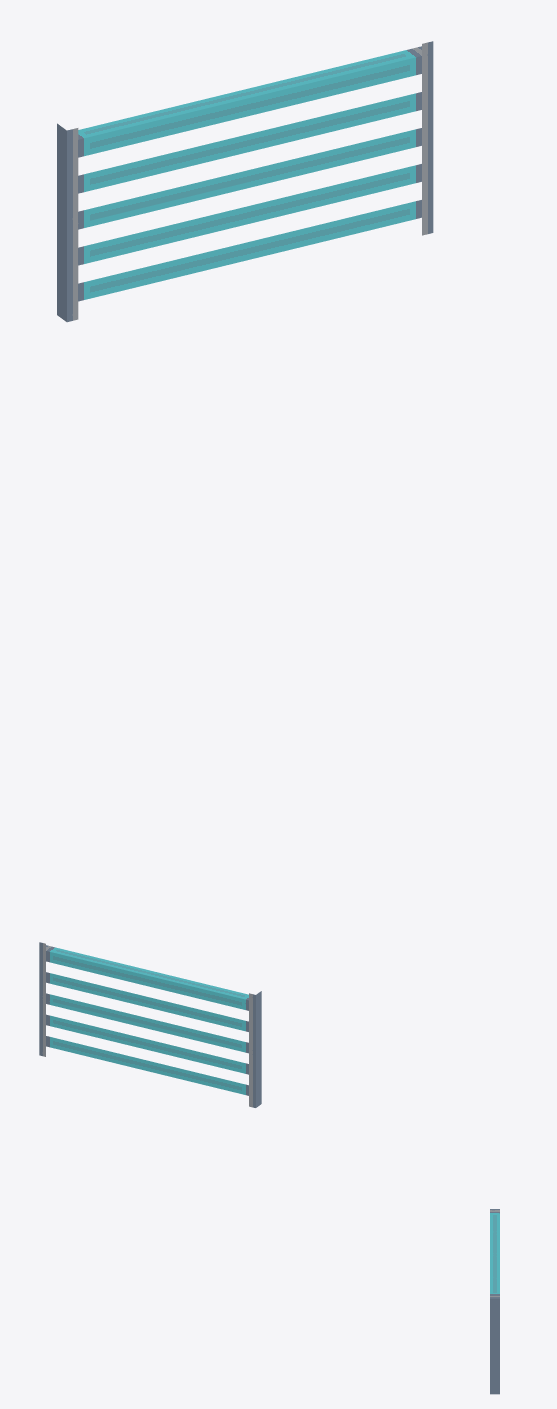
File: NewWallMed.gltf
The picture shows the model from 3 angles, top to bottom: view 1: azimuth 30°, elevation 25°; view 2: azimuth 150°, elevation 25°; view 3: azimuth 270°, elevation 25°; orthographic projection. The views are drawn at different scales.
Size of the model in its own units: 4 by 5 by 10.
Materials: 1 (1 with a texture image).
